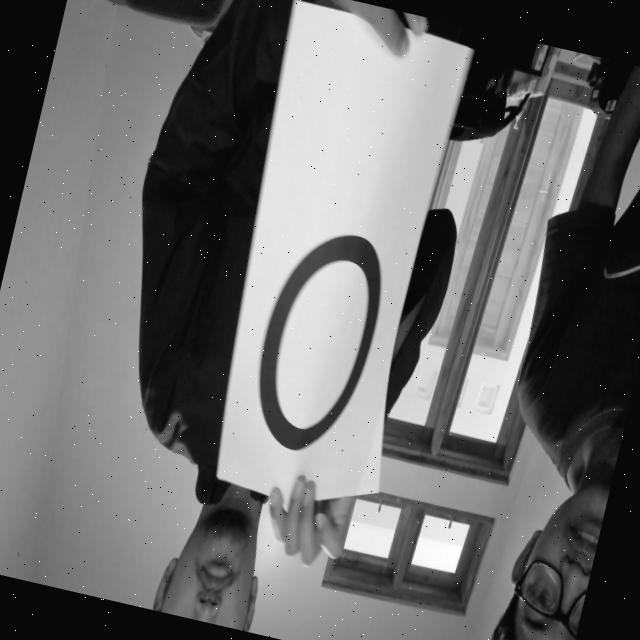o: (226, 197, 404, 469)
